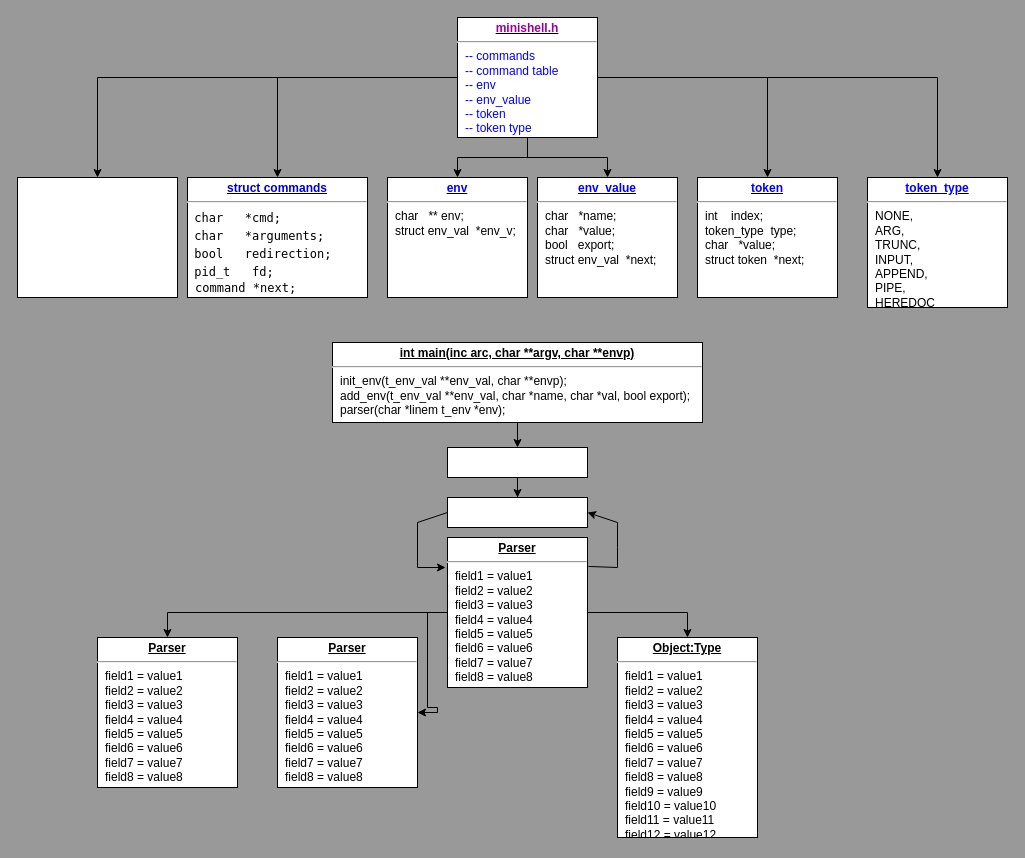
This 1025x858 diagram has some shape labels left out. The centre of each missing label's shape, as x and y in pixels:
init env: the point at 517,462
readline: the point at 517,512
struct command_table int count; struct s_cmd *command;: the point at 97,237
